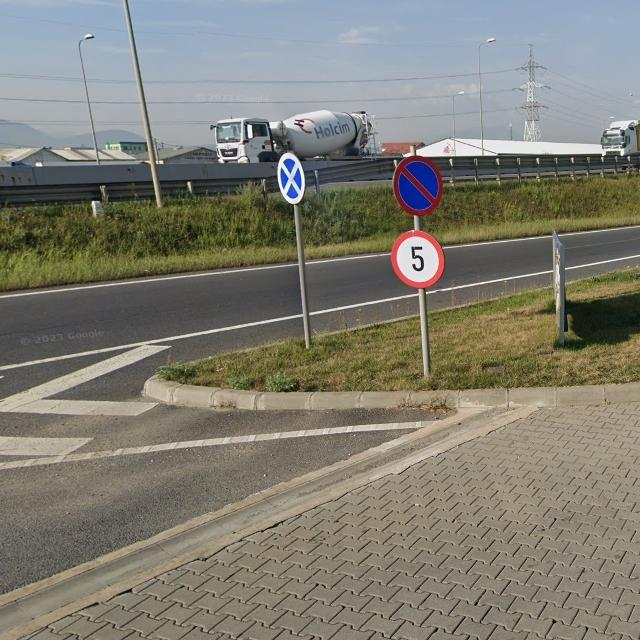forb_waiting: (392, 154, 443, 214), (277, 152, 306, 204)
